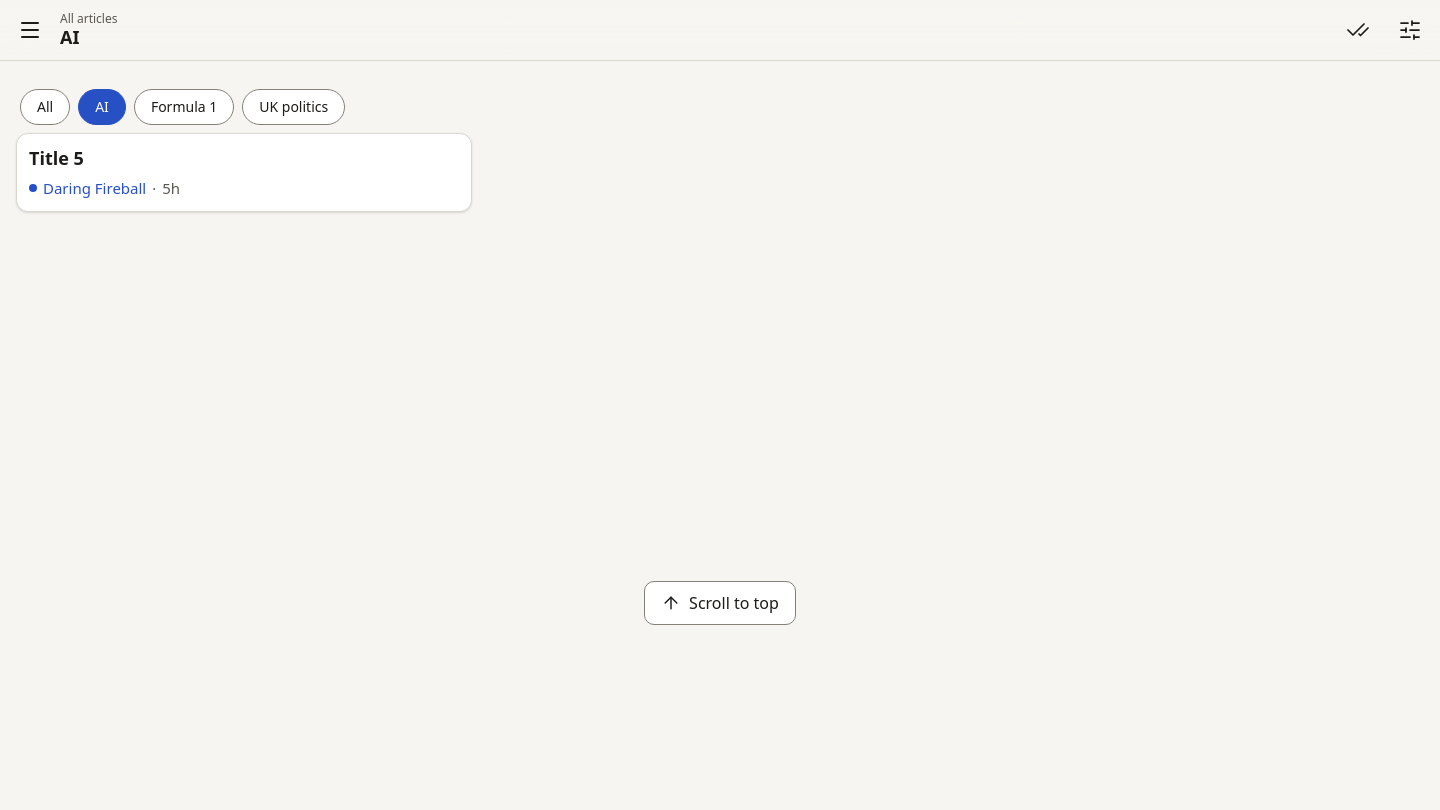
Test: AC2 and AC3: filtering and URL state › the request carries topic, state and sort, and each topic has its own cache entry
Expected: the heading "Title 5" is shown, [29,146,84,170]
Click the button named "Filters" at (1410, 30), box [1388,8,1432,52]
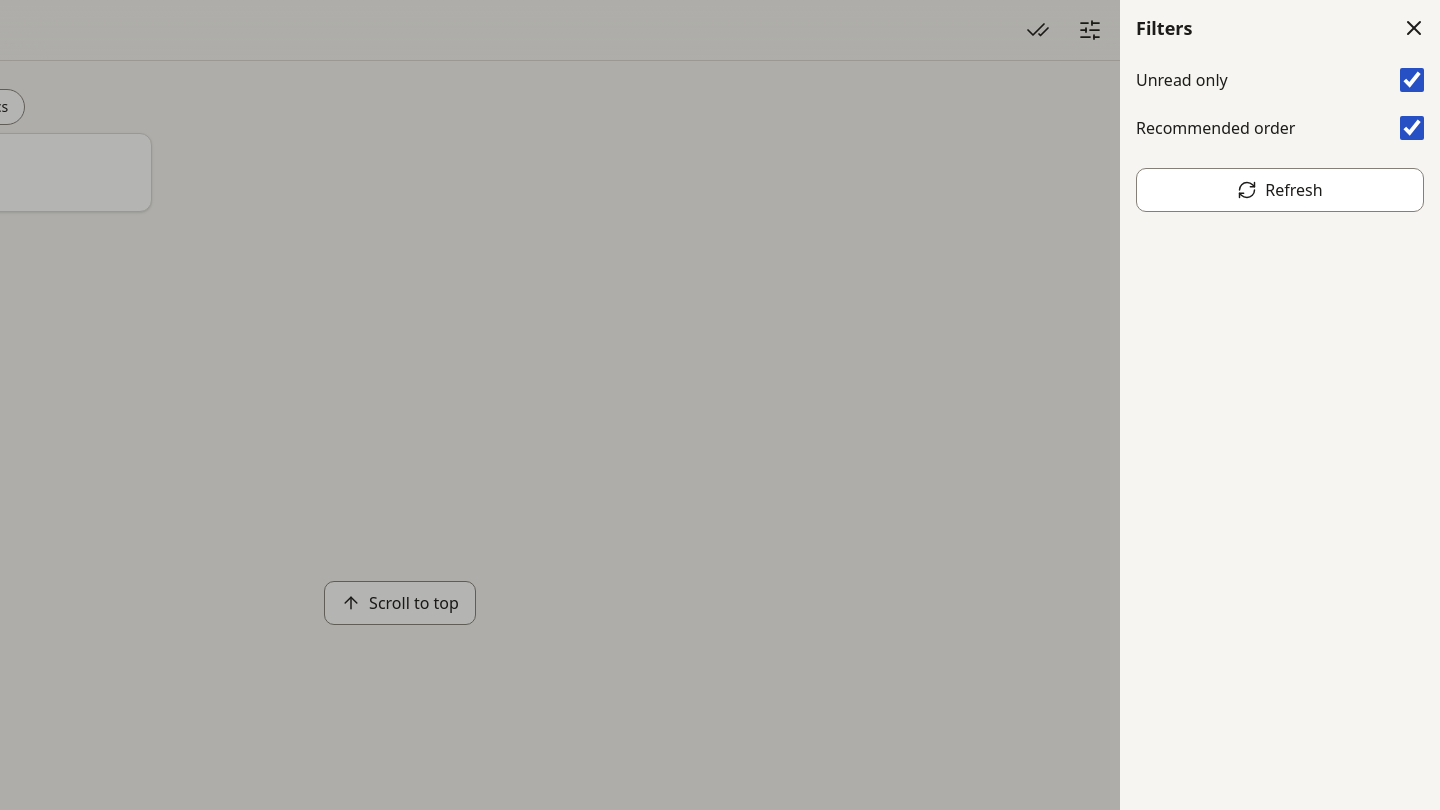
Click the switch labelled "Unread only" at (1412, 80), box [1400,68,1424,92]
(page scrolled)
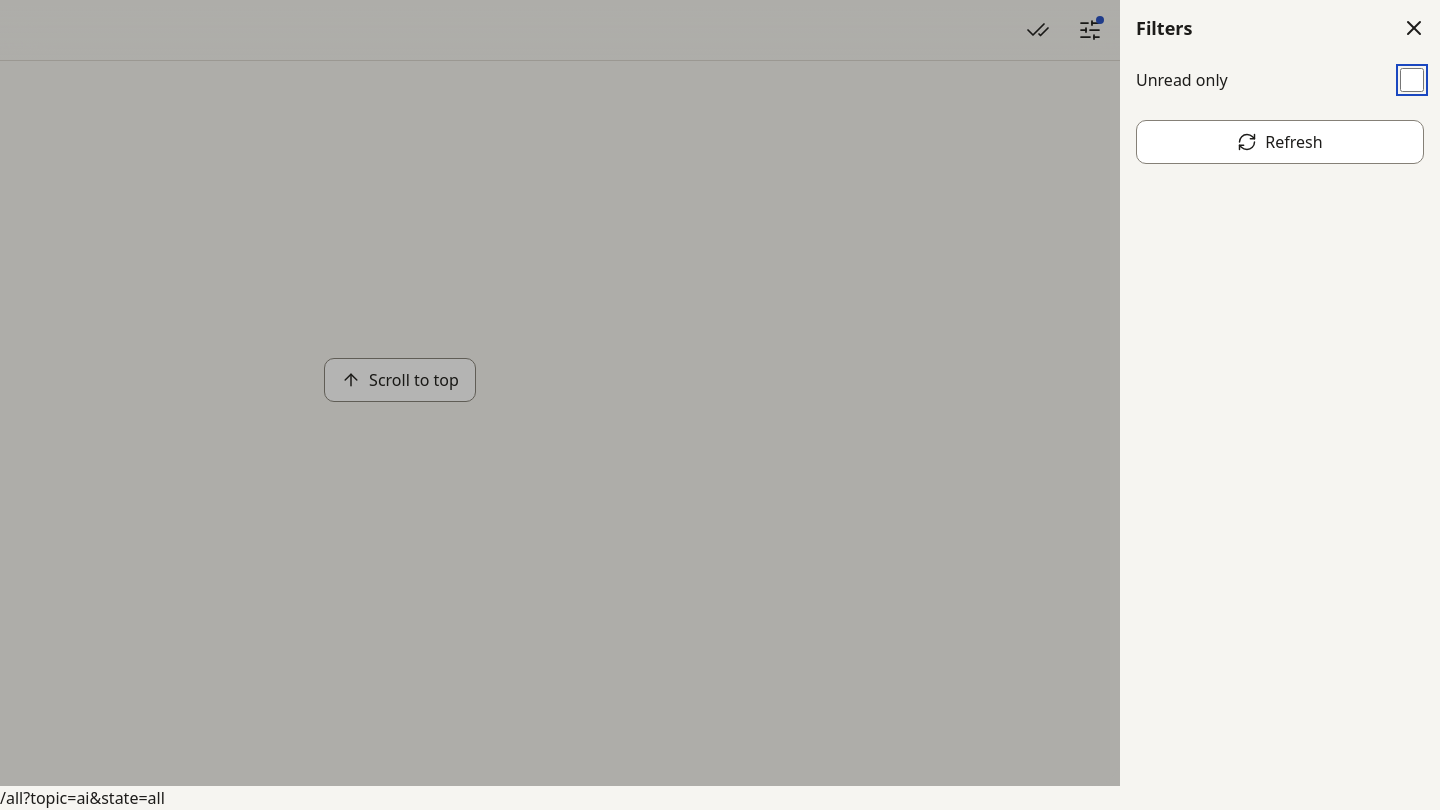
Result: the text with test id "url" reads "/all?topic=ai&state=all" at [0,787,165,809]
